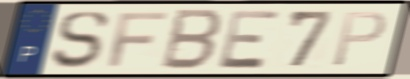7: (287, 9, 337, 69)
B: (157, 7, 227, 72)
E: (216, 8, 284, 71)
F: (106, 10, 170, 69)
P: (329, 9, 390, 69)
S: (49, 9, 111, 71)
